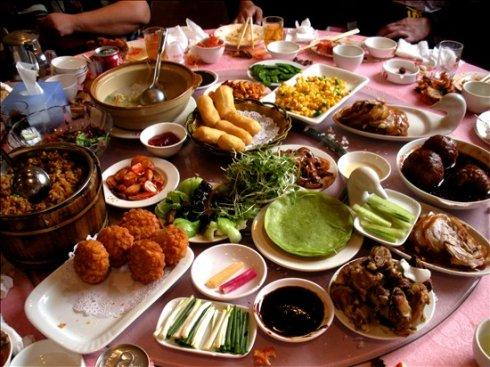food: (36, 211, 190, 335), (4, 131, 101, 256), (156, 160, 295, 241), (330, 241, 438, 344), (71, 203, 188, 297), (206, 140, 340, 209), (90, 49, 193, 133), (253, 186, 357, 265), (398, 129, 487, 210), (196, 78, 286, 151), (161, 291, 257, 358), (252, 271, 334, 345), (402, 206, 486, 276), (269, 59, 363, 121), (99, 150, 180, 208), (340, 91, 427, 141), (139, 117, 189, 157), (247, 55, 304, 88), (189, 30, 226, 63)
